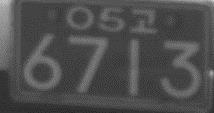0: (65, 4, 95, 31)
1: (118, 37, 150, 97)
3: (159, 38, 203, 99)
5: (98, 5, 125, 33)
6: (22, 32, 62, 91)
7: (67, 35, 109, 95)
고: (128, 6, 158, 34)
